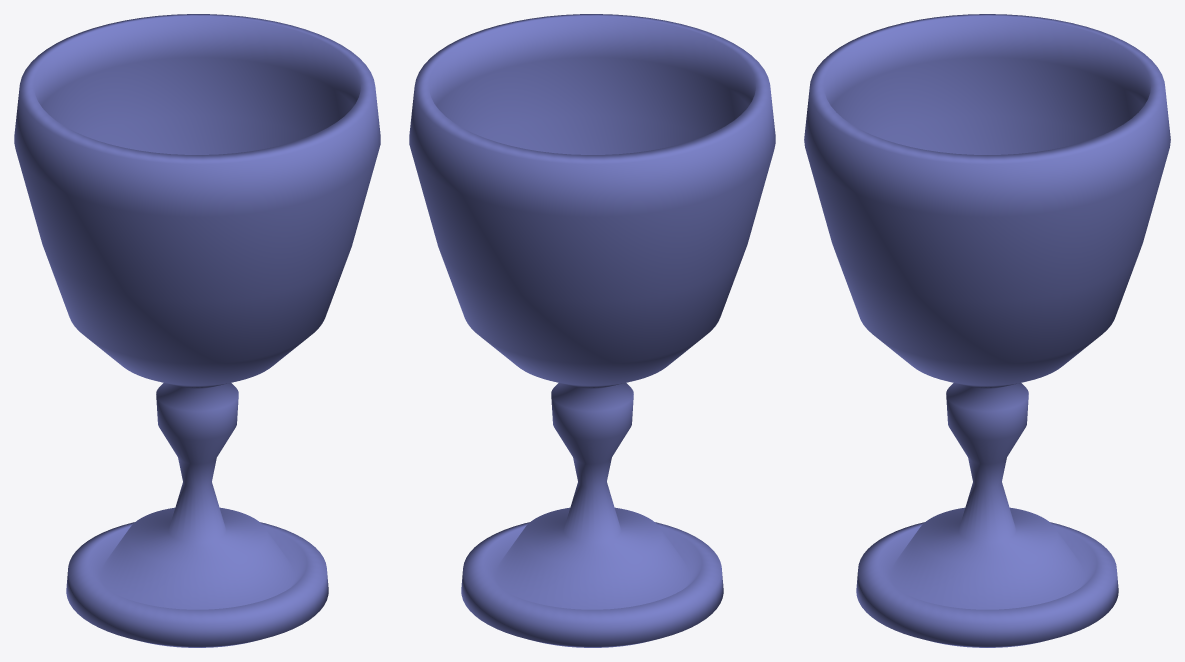
The model's file is cup11.glb.
The picture shows the model from 3 angles, left to right: view 1: azimuth 30°, elevation 25°; view 2: azimuth 150°, elevation 25°; view 3: azimuth 270°, elevation 25°; orthographic projection.
Parts seen in each view (by area): view 1: Cup11.001; view 2: Cup11.001; view 3: Cup11.001.
Part boxes in pixels (x1=…): Cup11.001: x1=14, y1=14, x2=380, y2=647; Cup11.001: x1=409, y1=14, x2=775, y2=647; Cup11.001: x1=804, y1=14, x2=1170, y2=647.
Bounding box in the file's own units: 1.84 × 2.85 × 1.84.
